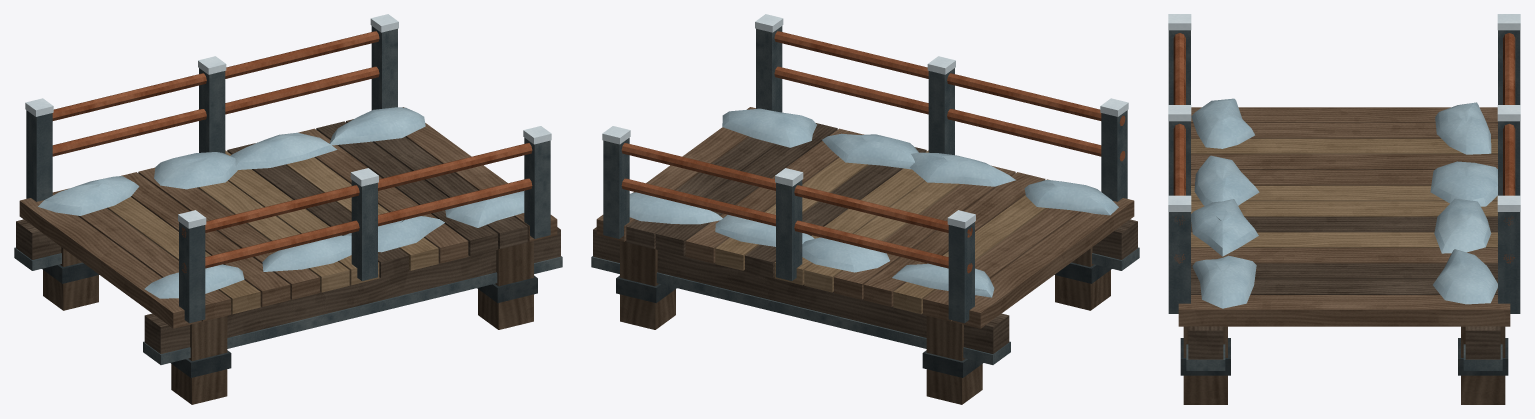
The model's file is 24_Causeway_Section.obj.
3 views of the same model, side by side, from view 1: azimuth 30°, elevation 25°; view 2: azimuth 150°, elevation 25°; view 3: azimuth 270°, elevation 25° (orthographic). The views are drawn at different scales.
Visible parts, largest first — view 1: 24_Causeway_Section; view 2: 24_Causeway_Section; view 3: 24_Causeway_Section.
Boxes of the visible parts, x1=… form: 24_Causeway_Section: x1=14, y1=14, x2=562, y2=404; 24_Causeway_Section: x1=591, y1=14, x2=1139, y2=404; 24_Causeway_Section: x1=1168, y1=14, x2=1520, y2=404.
Size of the model in its own units: 2.49 by 1.13 by 1.75.
Materials: 9 (9 with a texture image).
